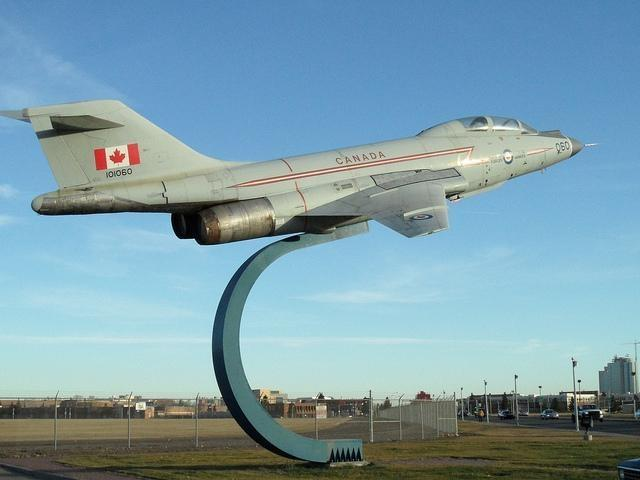car: (571, 403, 603, 423), (618, 458, 640, 480), (542, 410, 560, 420), (498, 410, 515, 420), (458, 410, 468, 417), (518, 409, 528, 416), (633, 409, 639, 419)
